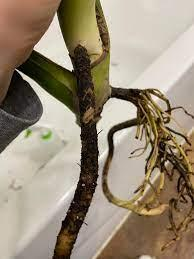root_rot: (28, 10, 149, 259)
